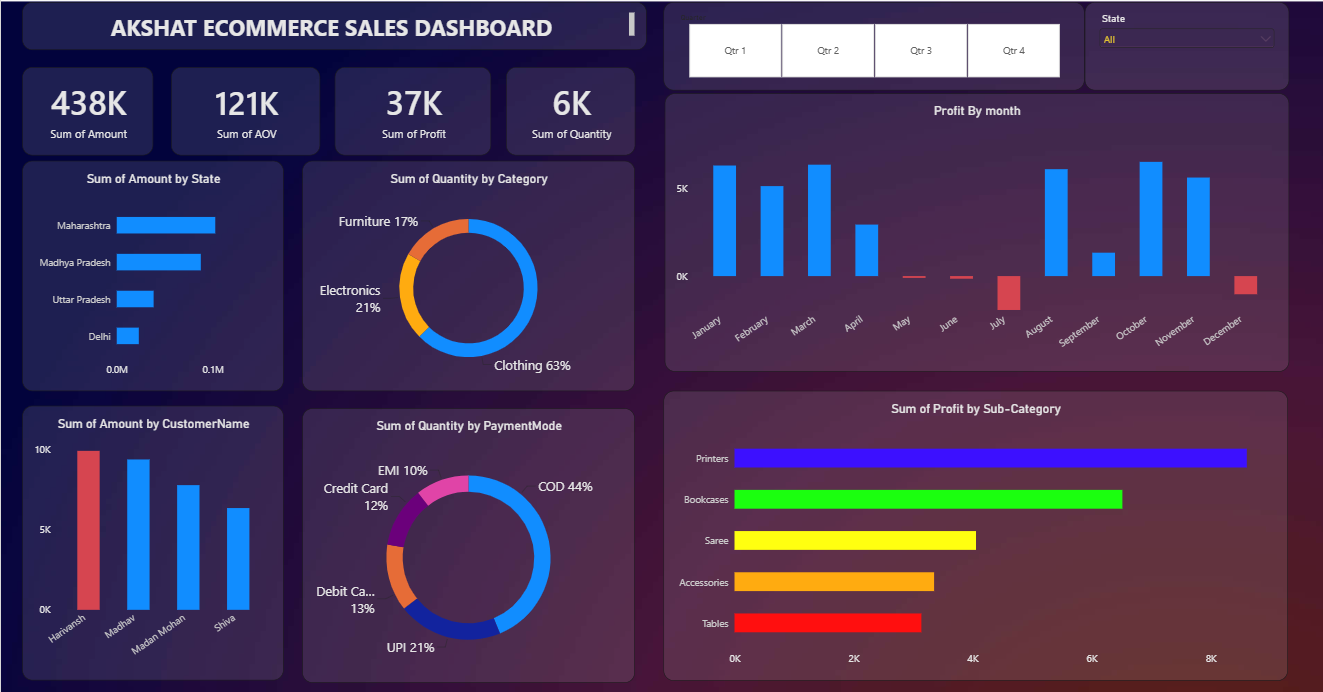

This screenshot's page, from the dashboard's own definition file:
{"tool":"powerbi","page":{"name":"Page 1","canvas":[1920,1080],"ordinal":0},"visuals":[{"type":"textbox","box":[30.9,37,903.6,70],"z":0},{"type":"columnChart","title":"Profit By month","fields":{"Category":["Orders.Order Date.Variation.Date Hierarchy.Month"],"Y":["Sum(Details.Profit)"]},"box":[961.2,168.8,903.6,403.4],"z":1000},{"type":"barChart","fields":{"Category":["Details.Sub-Category"],"Y":["Sum(Details.Profit)"]},"box":[959.2,599,903.6,419.9],"z":2000},{"type":"donutChart","fields":{"Category":["Details.PaymentMode"],"Y":["Sum(Details.Quantity)"]},"box":[436.4,623.7,481.6,397.3],"z":3000},{"type":"donutChart","fields":{"Category":["Details.Category"],"Y":["Sum(Details.Quantity)"]},"box":[436.4,265.5,481.6,333.4],"z":4000},{"type":"cardVisual","fields":{"Data":["Sum(Details.Amount)"]},"box":[30.9,129.7,189.4,127.6],"z":5000},{"type":"cardVisual","fields":{"Data":["Sum(Details.Quantity)"]},"box":[730.7,129.7,187.3,127.6],"z":6000},{"type":"cardVisual","fields":{"Data":["Sum(Details.Profit)"]},"box":[483.7,129.7,226.4,127.6],"z":7000},{"type":"cardVisual","fields":{"Data":["Sum(Details.AOV)"]},"box":[247,129.7,216.1,127.6],"z":8000},{"type":"barChart","fields":{"Category":["Orders.State"],"Y":["Sum(Details.Amount)"]},"box":[30.9,265.5,378.7,333.4],"z":9000},{"type":"columnChart","fields":{"Category":["Orders.CustomerName"],"Y":["Sum(Details.Amount)"]},"box":[30.9,621.6,378.7,397.3],"z":10000},{"type":"slicer","fields":{"Values":["Orders.Order Date.Variation.Date Hierarchy.Quarter"]},"box":[959.2,37,609.3,127.6],"z":11000},{"type":"slicer","fields":{"Values":["Orders.State"]},"box":[1568.4,37,296.4,127.6],"z":11001}]}

Visuals, with their boxes on the page's 1920x1080 design canvas (x1, y1, x2, y2). These are canvas units, not pixel positions in the 1323x692 screenshot, which may show the page scaled, cropped or inside an application window:
textbox: x1=31, y1=37, x2=934, y2=107
"Profit By month" columnChart: x1=961, y1=169, x2=1865, y2=572
barChart - Details.Sub-Category x Sum(Details.Profit): x1=959, y1=599, x2=1863, y2=1019
donutChart - Details.PaymentMode x Sum(Details.Quantity): x1=436, y1=624, x2=918, y2=1021
donutChart - Details.Category x Sum(Details.Quantity): x1=436, y1=266, x2=918, y2=599
cardVisual - Sum(Details.Amount): x1=31, y1=130, x2=220, y2=257
cardVisual - Sum(Details.Quantity): x1=731, y1=130, x2=918, y2=257
cardVisual - Sum(Details.Profit): x1=484, y1=130, x2=710, y2=257
cardVisual - Sum(Details.AOV): x1=247, y1=130, x2=463, y2=257
barChart - Orders.State x Sum(Details.Amount): x1=31, y1=266, x2=410, y2=599
columnChart - Orders.CustomerName x Sum(Details.Amount): x1=31, y1=622, x2=410, y2=1019
slicer - Orders.Order Date.Variation.Date Hierarchy.Quarter: x1=959, y1=37, x2=1568, y2=165
slicer - Orders.State: x1=1568, y1=37, x2=1865, y2=165
